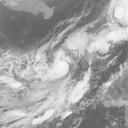cyclone: (37, 47, 73, 84)
